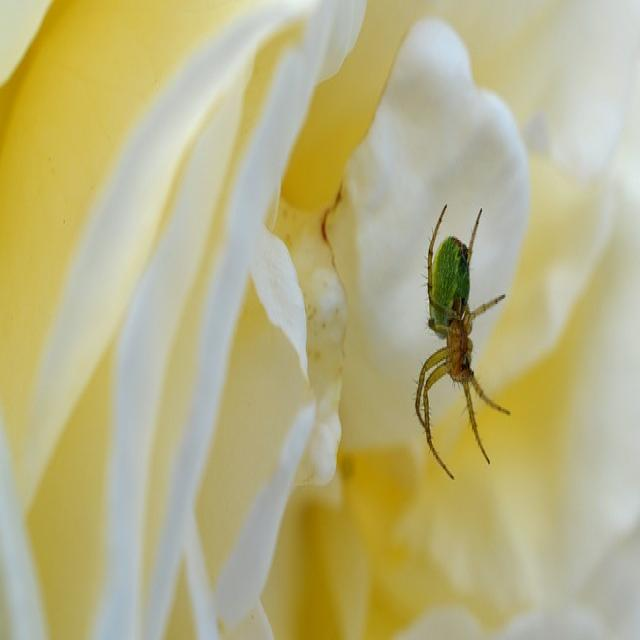spyder: (415, 204, 509, 474)
